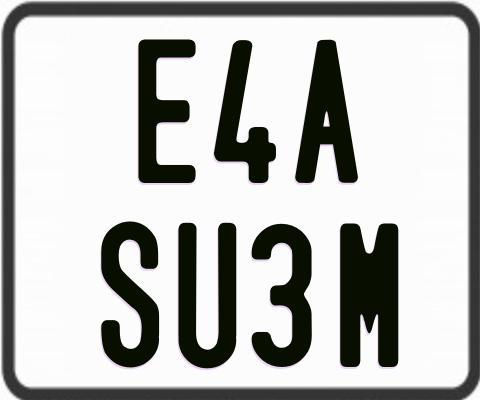3: (250, 221, 310, 368)
4: (213, 39, 280, 188)
A: (293, 39, 361, 183)
E: (137, 36, 200, 186)
M: (338, 221, 396, 366)
S: (101, 221, 160, 370)
U: (178, 223, 236, 374)
